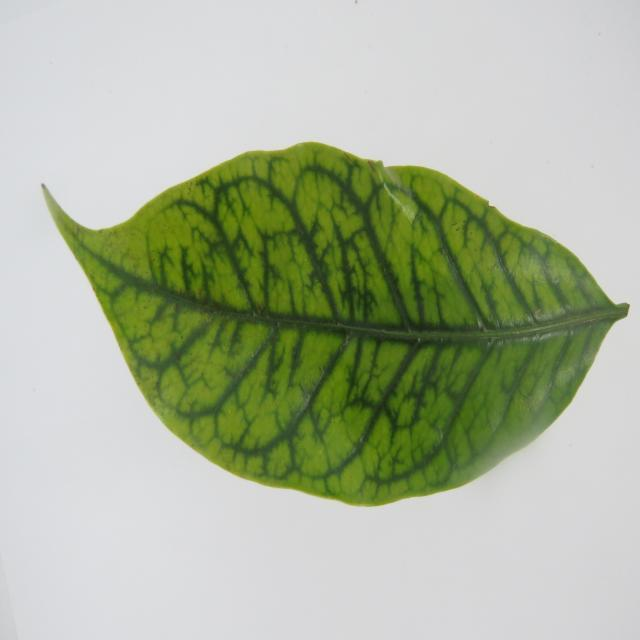DeficienciaNutricional-Magnesio: (42, 143, 628, 505)
